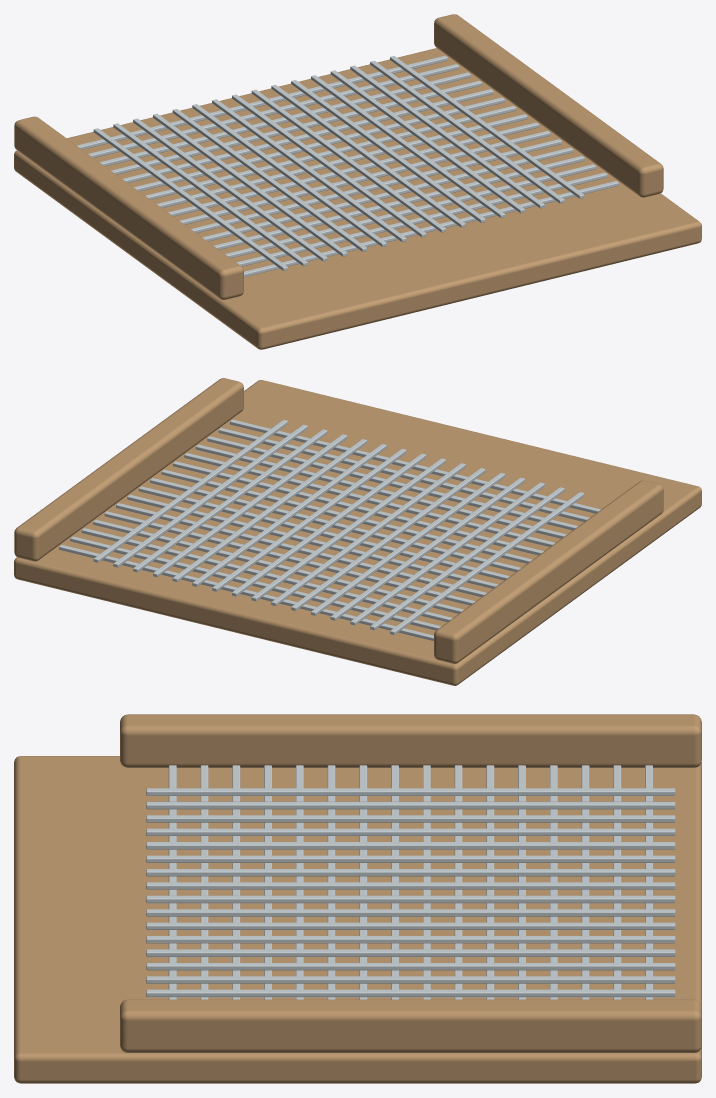
Rendered from beekeeping-and-honey-farm-screened-bottom-board-ebae93e4__30702.glb.
3 renders of one model, top to bottom at view 1: azimuth 30°, elevation 25°; view 2: azimuth 150°, elevation 25°; view 3: azimuth 270°, elevation 25°, orthographic. The views are drawn at different scales.
Parts seen in each view (by area): view 1: screened-bottom-board; view 2: screened-bottom-board; view 3: screened-bottom-board.
Boxes of the visible parts, box(x1,y1,x2,y2) form: screened-bottom-board: box(14, 14, 701, 349); screened-bottom-board: box(14, 378, 701, 685); screened-bottom-board: box(14, 714, 701, 1083).
Size of the model in its own units: 0.54 by 0.06 by 0.52.
